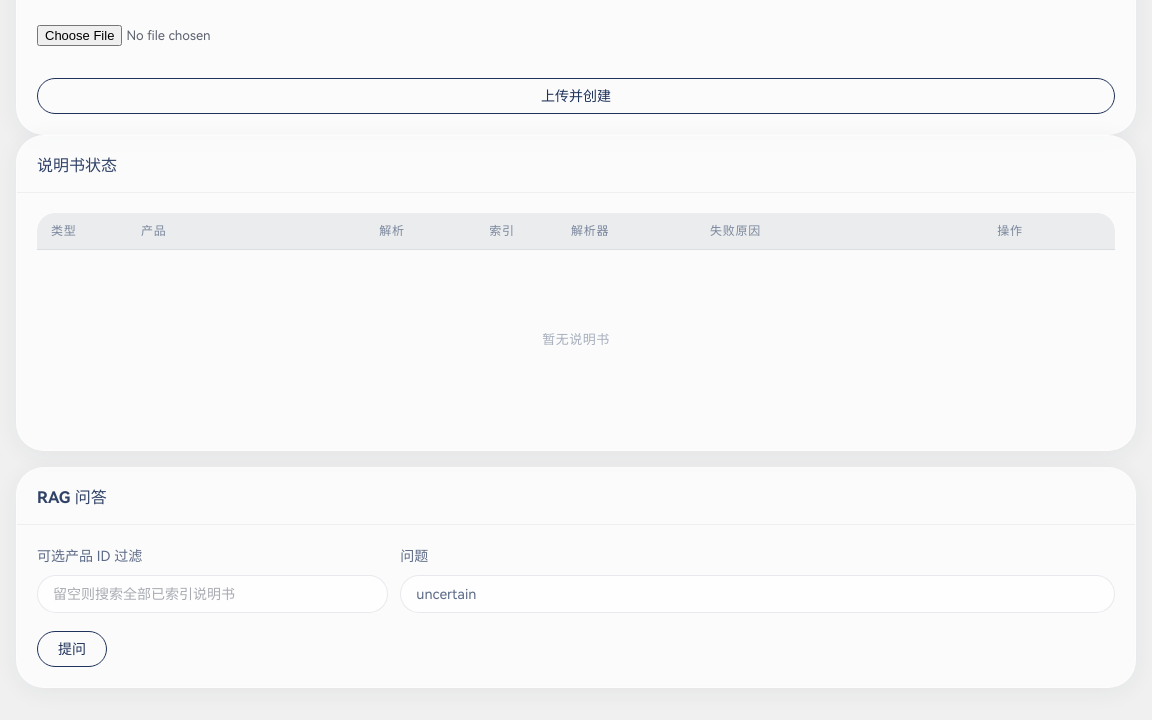
Test: Manuals.vue › RAG sources and insufficient state › shows insufficient state when insufficient_sources is true
The image size is (1152, 720).
(page scrolled)
Click the button "提问": point(72, 649) [37, 631, 107, 667]
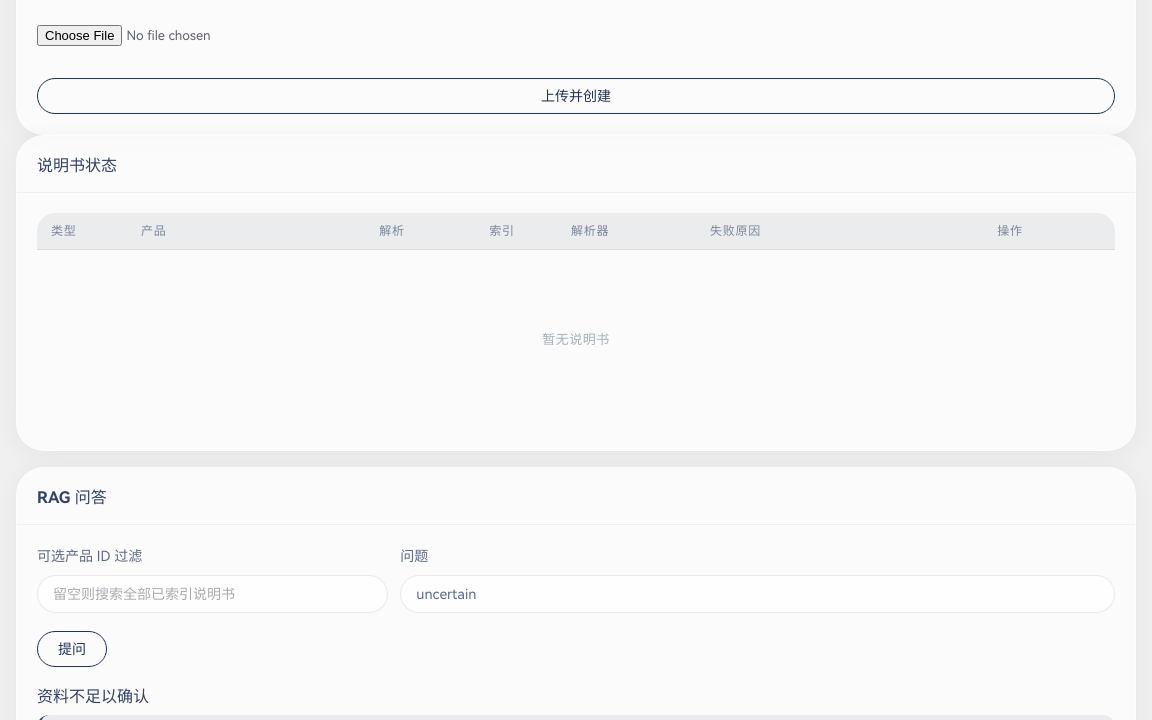
Now the heading "资料不足以确认" is shown, box [37, 687, 149, 706]
